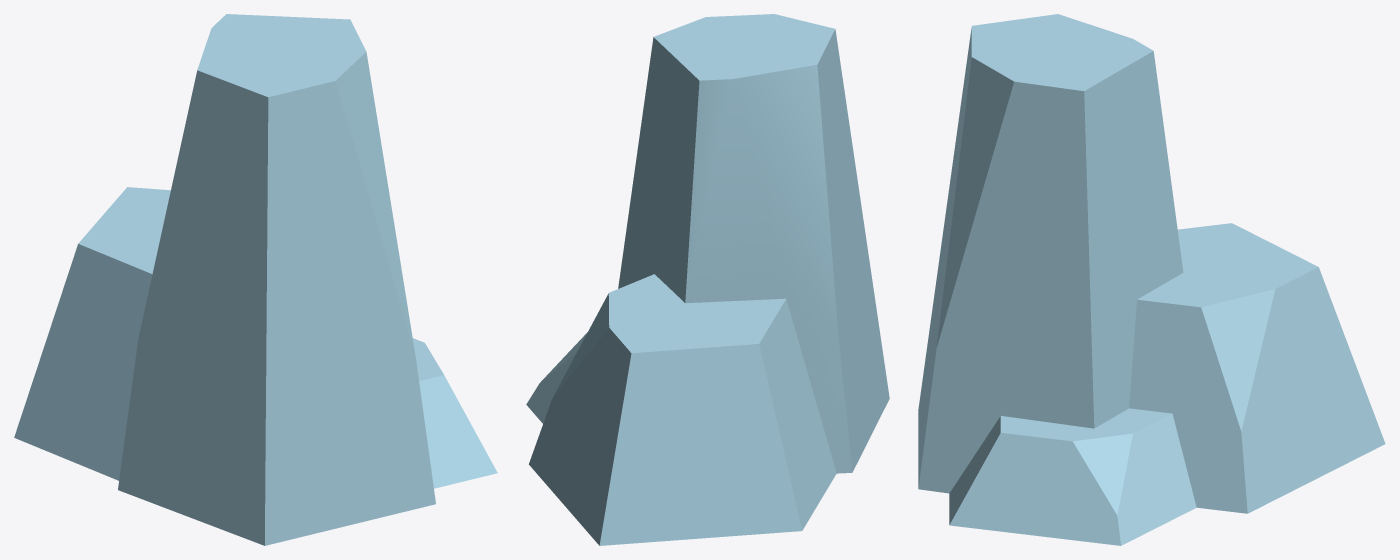
Rendered from rockSmall.glb.
The picture shows the model from 3 angles, left to right: view 1: azimuth 30°, elevation 25°; view 2: azimuth 150°, elevation 25°; view 3: azimuth 270°, elevation 25°; orthographic projection. The views are drawn at different scales.
Parts seen in each view (by area): view 1: rockSmall; view 2: rockSmall; view 3: rockSmall.
Boxes of the visible parts, x1,y1,x2,y2 form: rockSmall: (14, 14, 497, 545); rockSmall: (526, 14, 889, 545); rockSmall: (918, 14, 1385, 545).
Size of the model in its own units: 0.9419 by 1.02 by 1.08.
